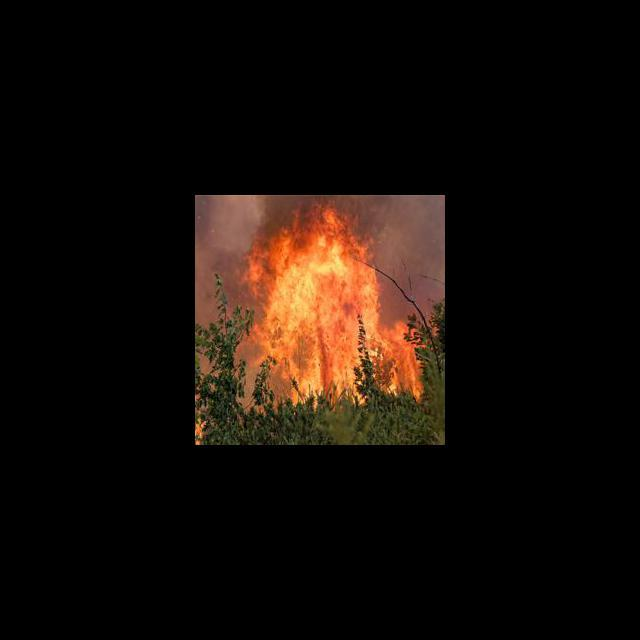Fire: (233, 198, 426, 398)
